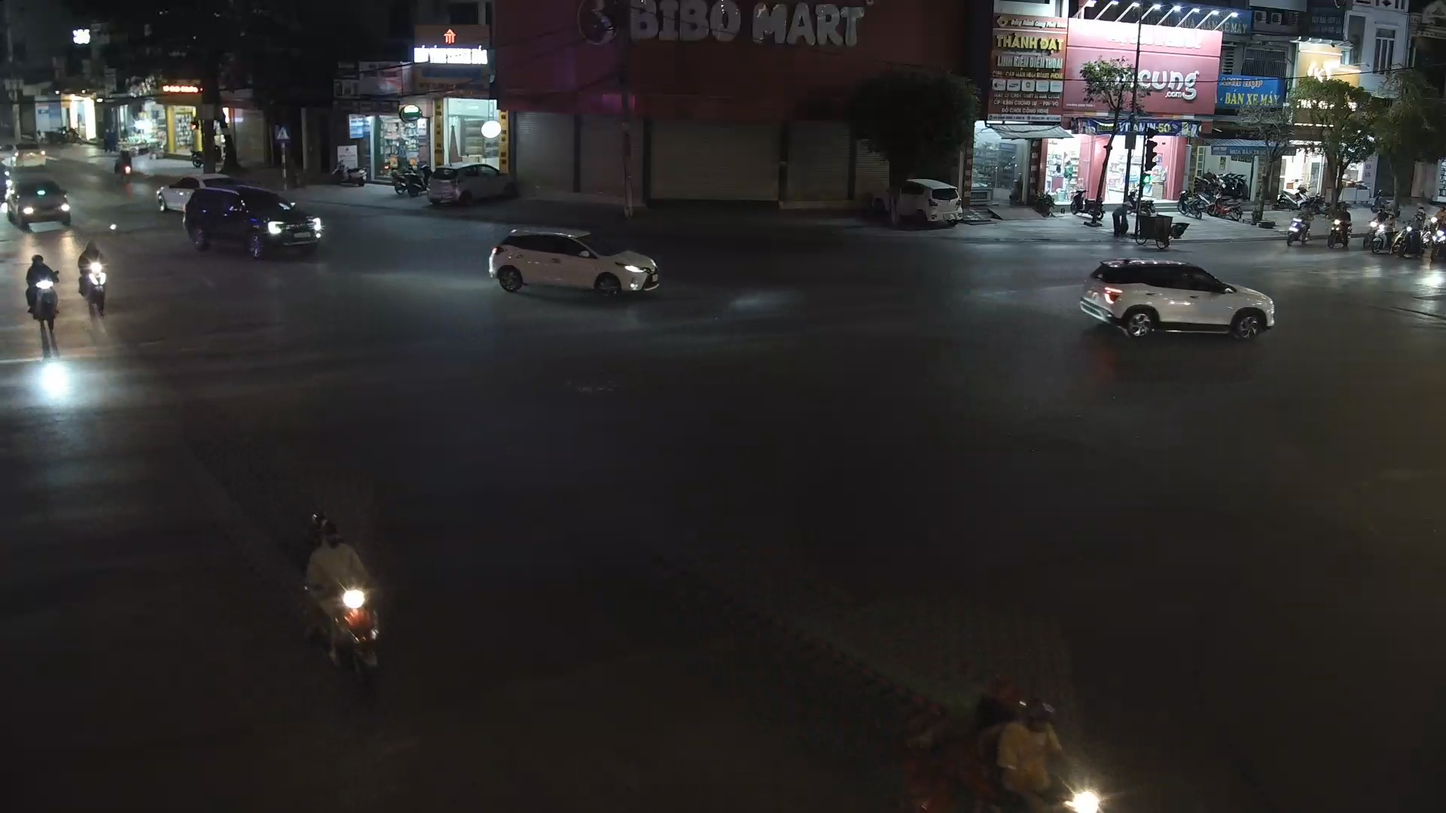car: (1079, 256, 1277, 341), (486, 224, 662, 301), (182, 181, 325, 261), (8, 174, 74, 232)
motorbike: (294, 511, 388, 689), (23, 250, 63, 345), (75, 241, 109, 317)
